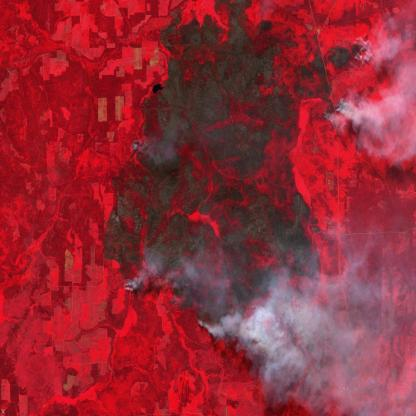fire: (122, 274, 309, 347), (319, 41, 370, 124), (130, 135, 142, 155)
